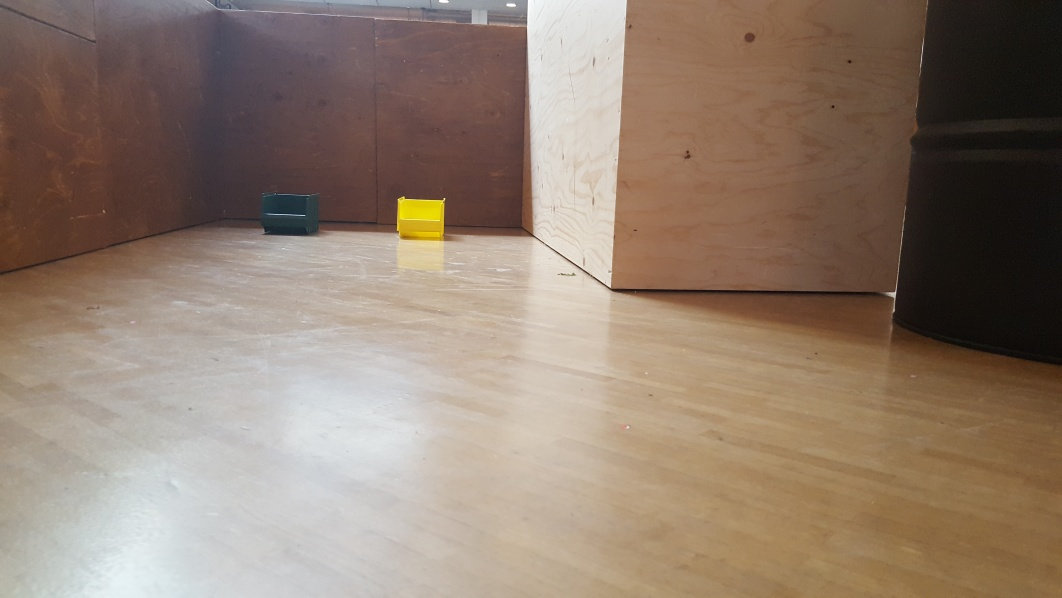tray: (261, 189, 321, 238), (393, 196, 449, 240)
